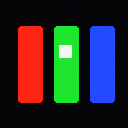1 square: (59, 45, 71, 57)
